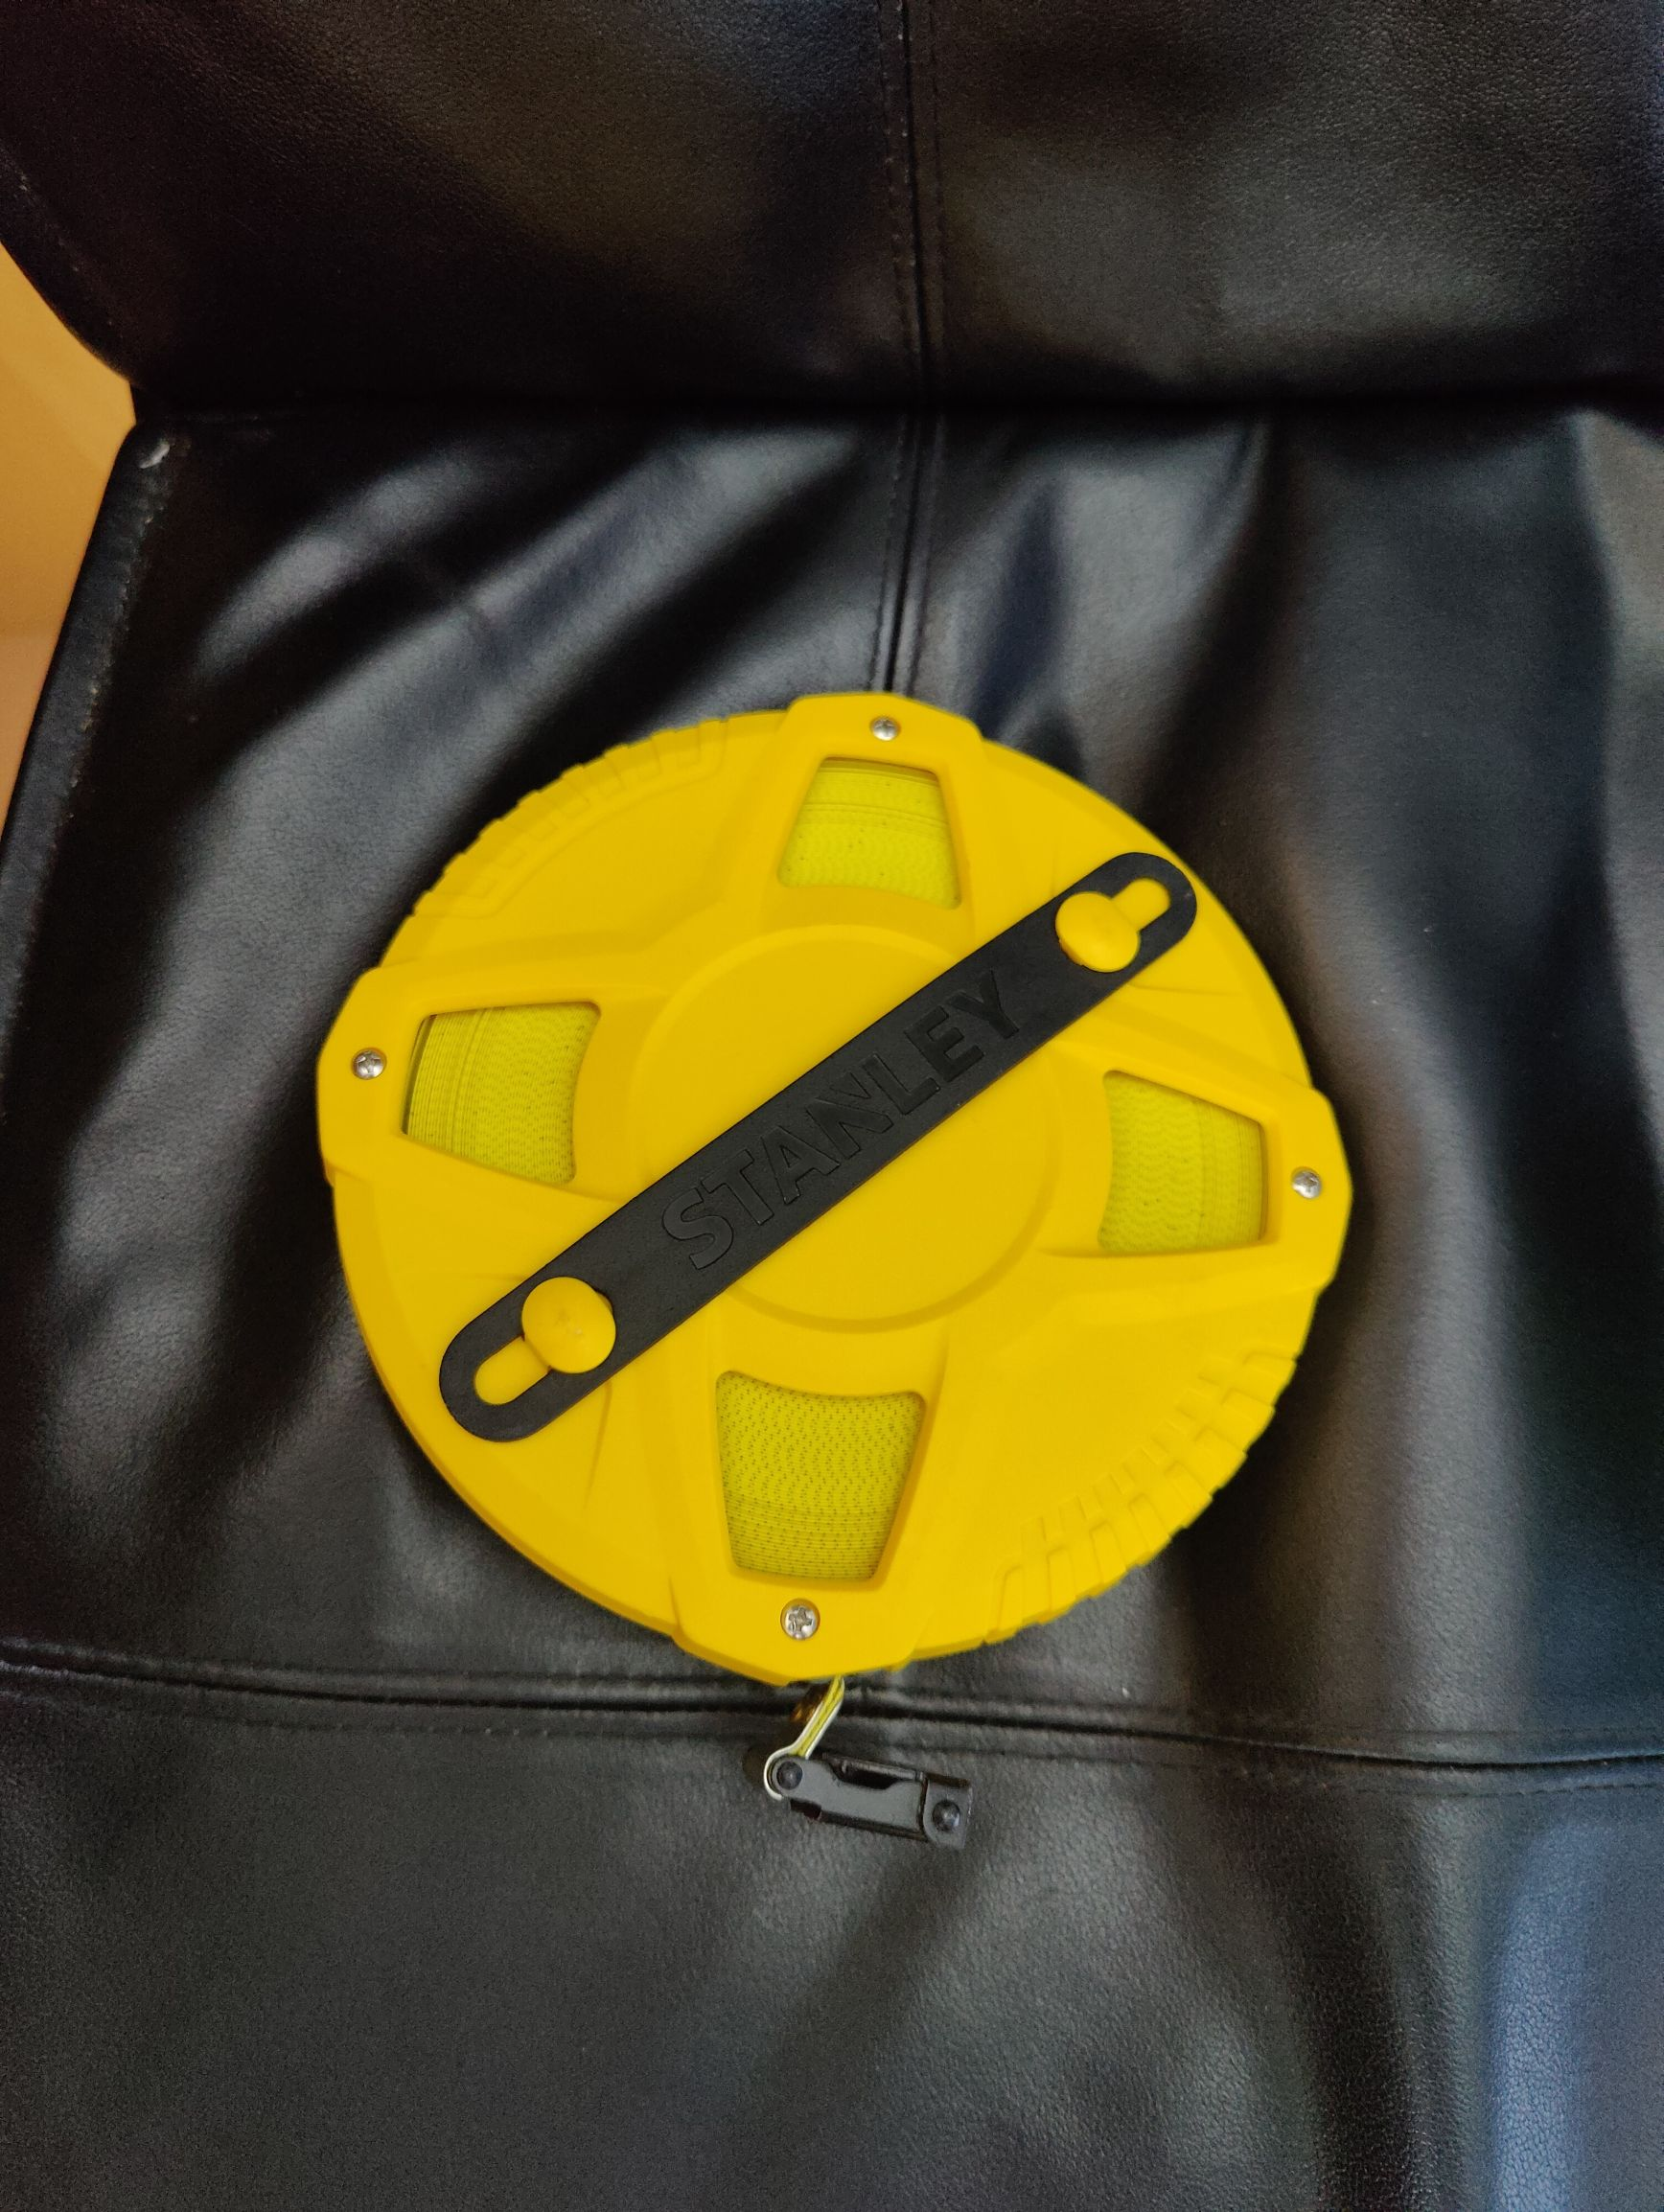tapemeasure: (327, 713, 1362, 1835)
